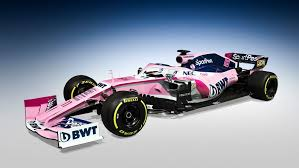FormulaOneCar: (18, 43, 275, 157)
